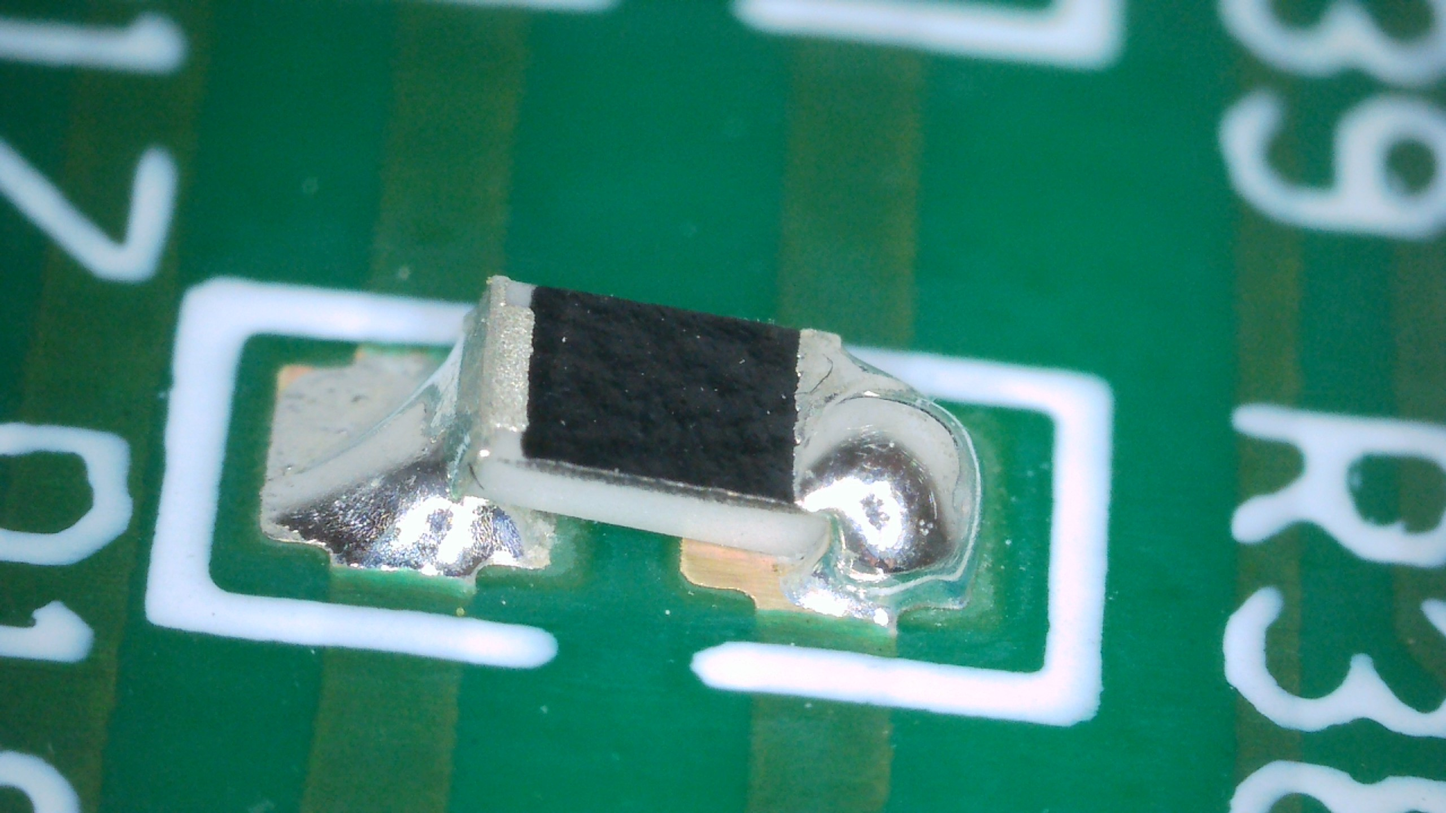NG: (260, 278, 534, 576), (792, 329, 980, 619)
